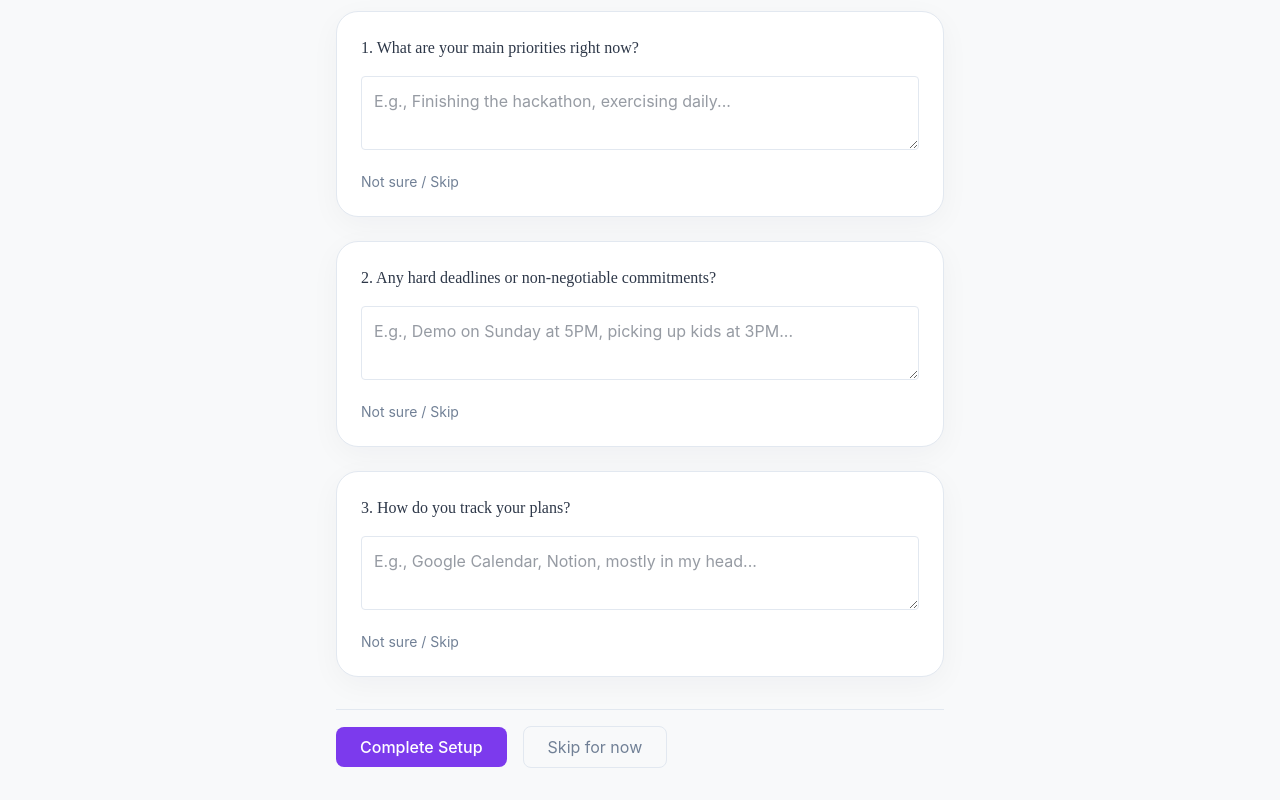
Test: HomePage › can skip all setup questions and sends empty answers
(page scrolled)
Check: the heading "1. What are your main priorities right now?" is shown, box [361,39,639,56]
Click the button "Skip for now" at [595, 747], box [523,726,667,768]
(page scrolled)
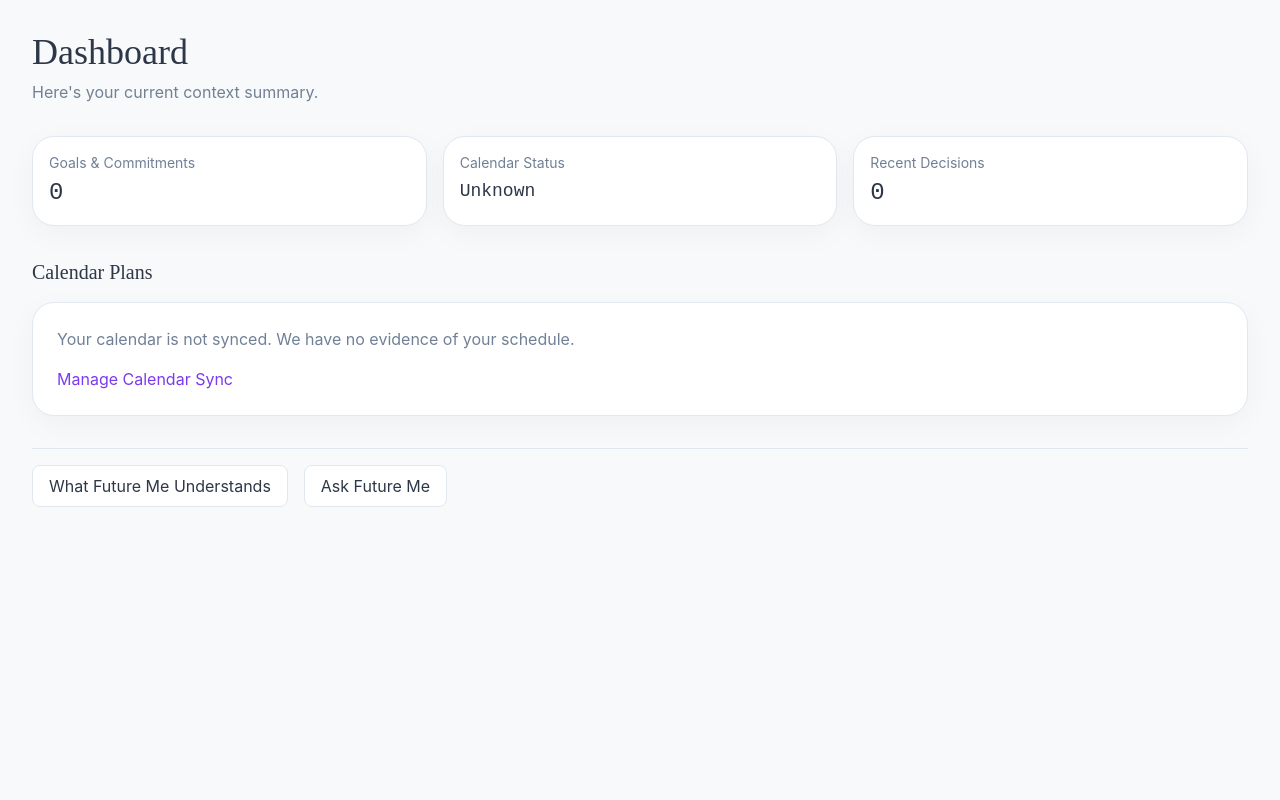
Check: the heading "Dashboard" is shown, box [32,32,188,72]
